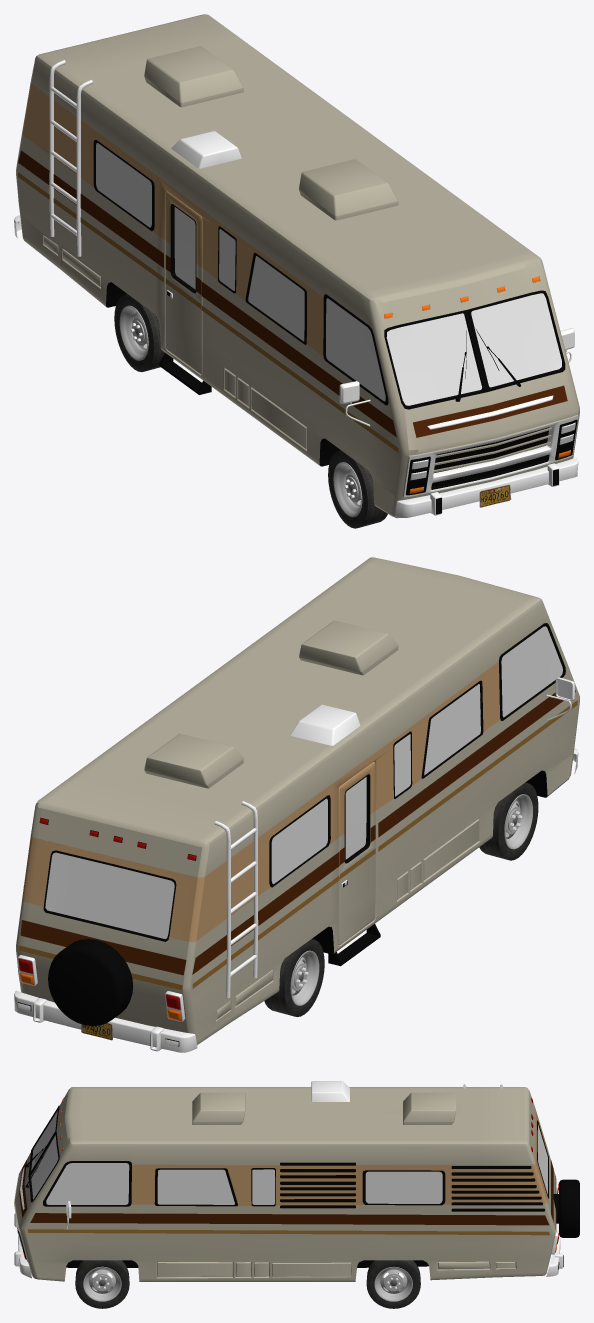
Rendered from generic-1980s-motorhome.fbx.
3 renders of one model, top to bottom at view 1: azimuth 30°, elevation 25°; view 2: azimuth 150°, elevation 25°; view 3: azimuth 270°, elevation 25°, orthographic. The views are drawn at different scales.
Visible parts, largest first — view 1: 768, 219, 784, 332, 233, 318, 65, 82, 202, 5, 663, 751 (+14 smaller); view 2: 768, 784, 247, 332, 233, 154, 65, 82, 202, 318, 292, 343 (+10 smaller); view 3: 768, 784, 233, 332, 202, 37, 318, 390, 343, 65, 82, 154 (+12 smaller).
Part boxes in pixels (box(x1,y1,x2,y2)): 768: box(16, 14, 579, 517); 219: box(386, 293, 561, 405); 784: box(22, 82, 323, 356); 332: box(18, 150, 567, 437); 233: box(96, 143, 304, 341); 318: box(93, 140, 565, 409); 65: box(299, 159, 398, 220); 82: box(144, 46, 243, 107); 202: box(326, 298, 385, 401); 5: box(395, 457, 578, 518); 663: box(404, 416, 578, 497); 751: box(49, 60, 92, 256); 768: box(16, 557, 579, 1044); 784: box(22, 661, 500, 942); 247: box(45, 852, 174, 939); 332: box(20, 680, 575, 975); 233: box(271, 684, 480, 884); 154: box(48, 939, 133, 1025); 65: box(299, 620, 398, 675); 82: box(144, 733, 243, 788); 202: box(501, 626, 562, 717); 318: box(43, 623, 565, 941); 292: box(14, 990, 197, 1052); 343: box(18, 700, 577, 990); 768: box(15, 1087, 555, 1281); 784: box(131, 1109, 547, 1205); 233: box(157, 1169, 442, 1204); 332: box(19, 1159, 553, 1225); 202: box(46, 1163, 129, 1204); 37: box(451, 1166, 544, 1211); 318: box(28, 1105, 548, 1206); 390: box(280, 1162, 355, 1208); 343: box(27, 1176, 556, 1235); 65: box(192, 1092, 245, 1124); 82: box(403, 1092, 455, 1124); 154: box(553, 1179, 579, 1237).
Size of the model in its own units: 118 by 127 by 363.
Materials: 45 (17 with a texture image).
